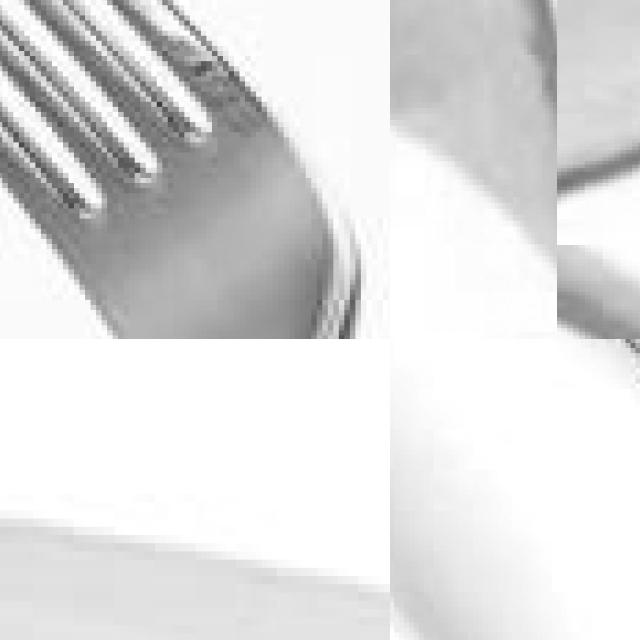forks: (0, 0, 390, 339)
spoons: (390, 339, 640, 640), (390, 0, 600, 288)
